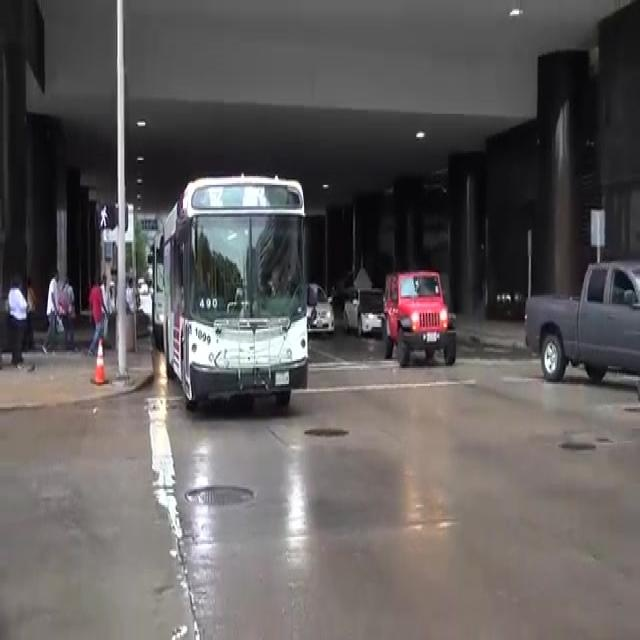Bus: (162, 174, 307, 400), (150, 227, 164, 333)
